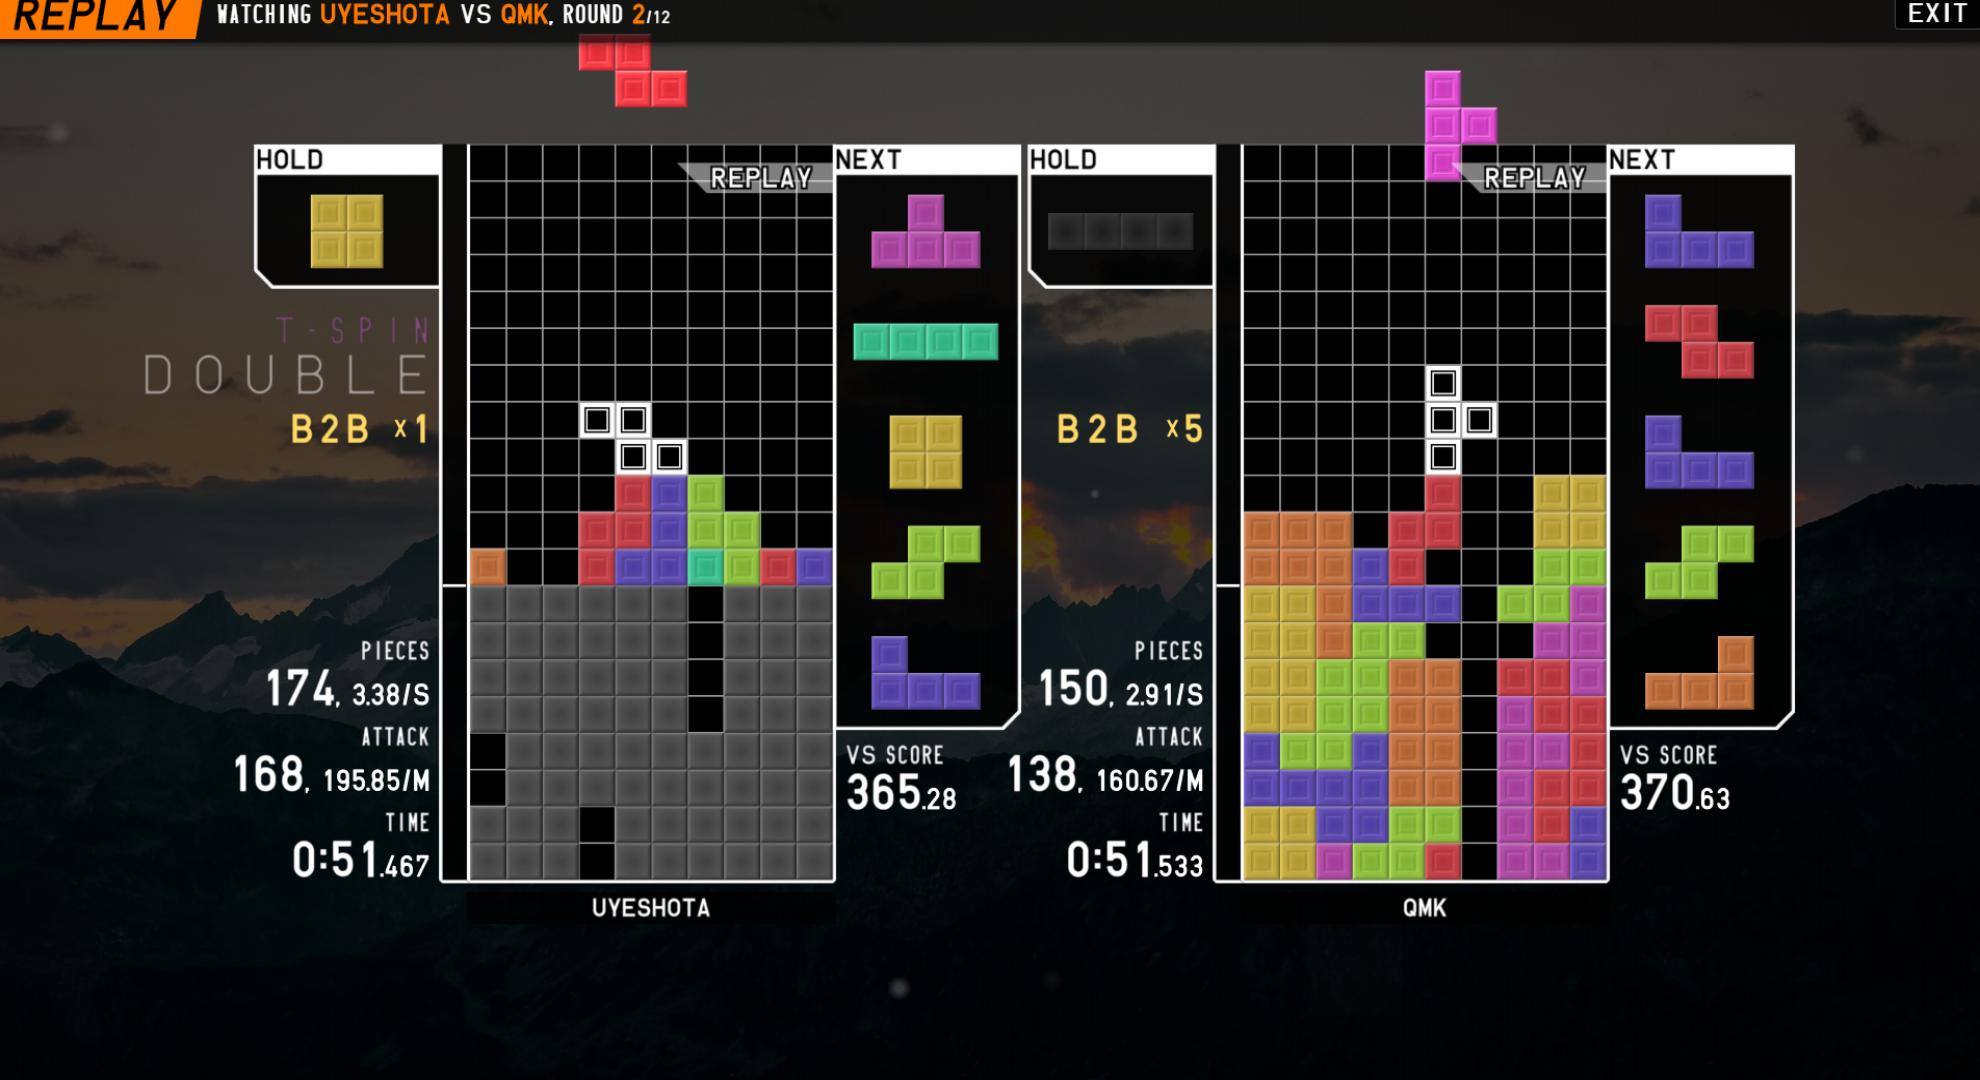tspin: (1420, 580, 1544, 698), (1422, 509, 1540, 622)
